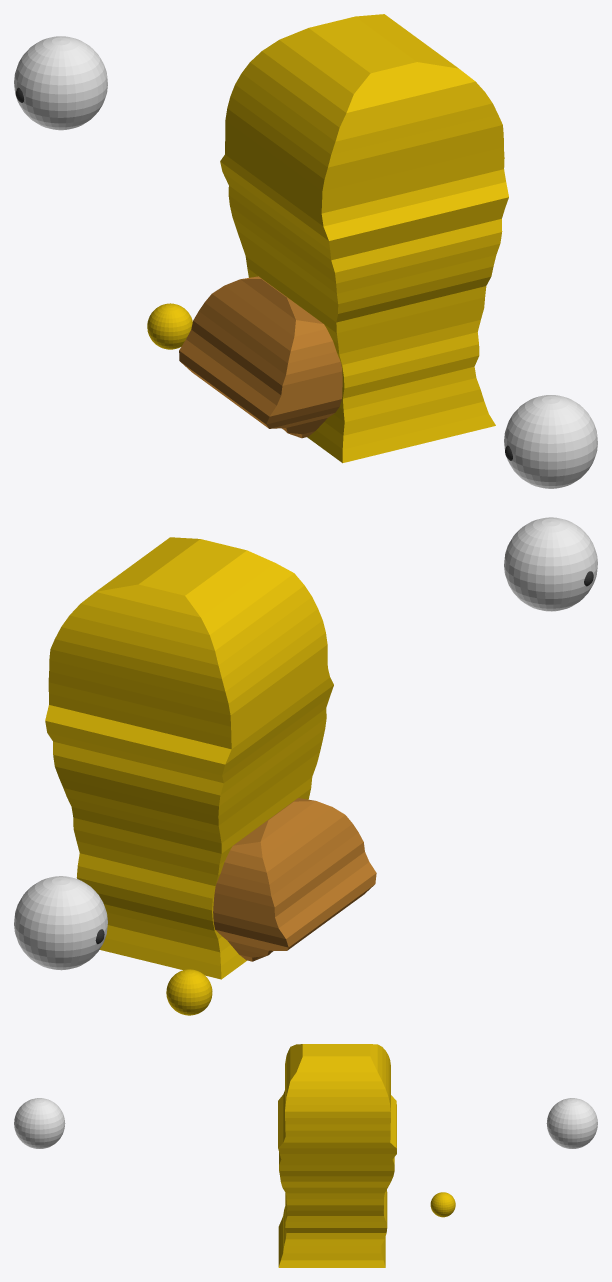
Rendered from HomerPotatoHead.fbx.
3 views of the same model, one above another, from view 1: azimuth 30°, elevation 25°; view 2: azimuth 150°, elevation 25°; view 3: azimuth 270°, elevation 25° (orthographic). The views are drawn at different scales.
Visible parts, largest first — view 1: Head, Mouth, LeftEye, RightEye, Nose; view 2: Head, Mouth, LeftEye, RightEye, Nose; view 3: Head, RightEye, LeftEye, Nose.
Part boxes in pixels (x1,y1,x2,y2): Head: [220, 14, 508, 463]; Mouth: [179, 276, 342, 438]; LeftEye: [504, 395, 597, 488]; RightEye: [14, 36, 107, 130]; Nose: [147, 303, 192, 349]; Head: [45, 537, 333, 979]; Mouth: [213, 798, 376, 961]; LeftEye: [504, 517, 597, 611]; RightEye: [14, 876, 107, 970]; Nose: [166, 969, 212, 1015]; Head: [278, 1044, 396, 1267]; RightEye: [546, 1098, 597, 1148]; LeftEye: [14, 1098, 65, 1148]; Nose: [430, 1192, 455, 1217].
Size of the model in its own units: 25.91 by 39.05 by 103.
